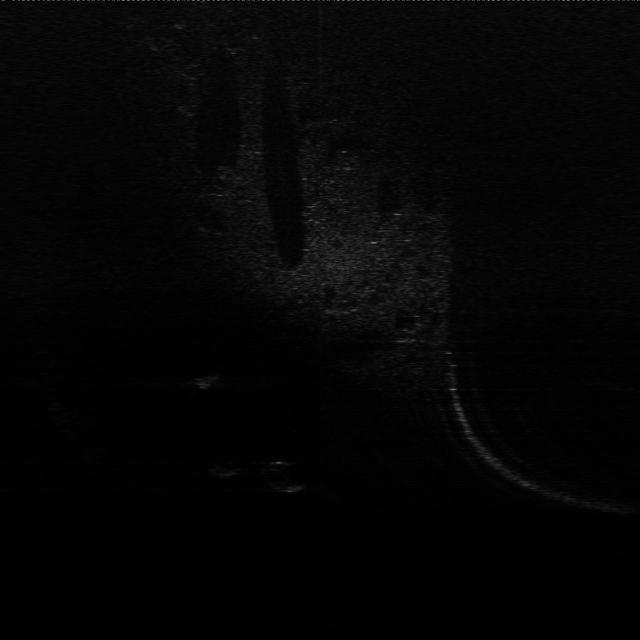cube: (207, 456, 242, 481)
square cage: (184, 365, 222, 393)
tyre: (257, 456, 313, 496)
